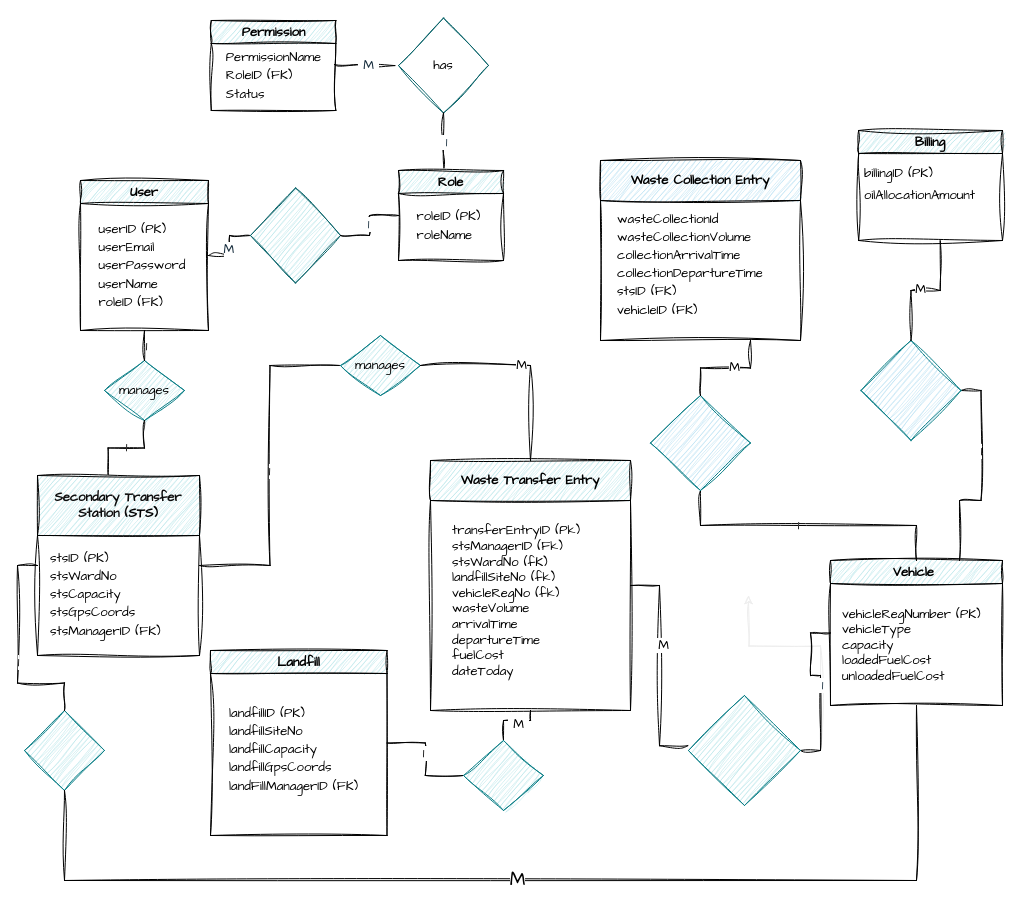
Image size: 1020x910. Some labels were removed from this diagram. Here are the shapes that lost their labels. From the top down, the centre of each, then its label:
pixel 295 235: is associated with
pixel 910 390: Generated By
pixel 700 442: Collected by
pixel 64 750: Assigns
pixel 744 750: transferred by
pixel 503 775: receives
